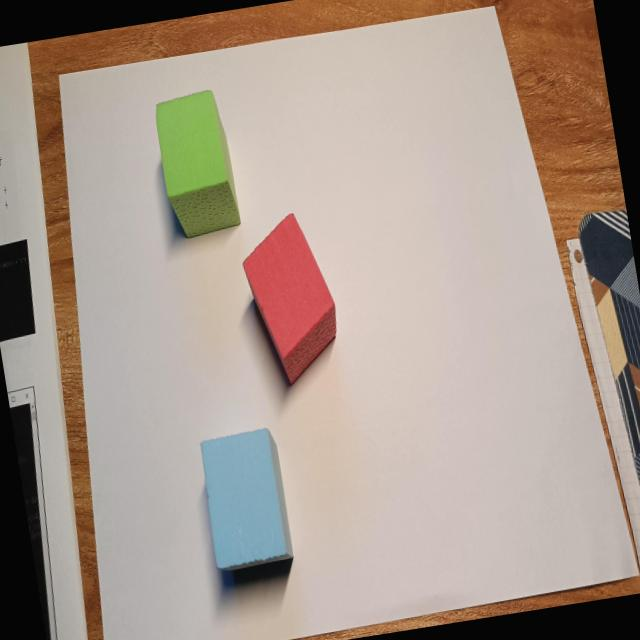BLUE: (199, 429, 294, 571)
GREEN: (155, 91, 242, 242)
RED: (242, 214, 338, 384)
